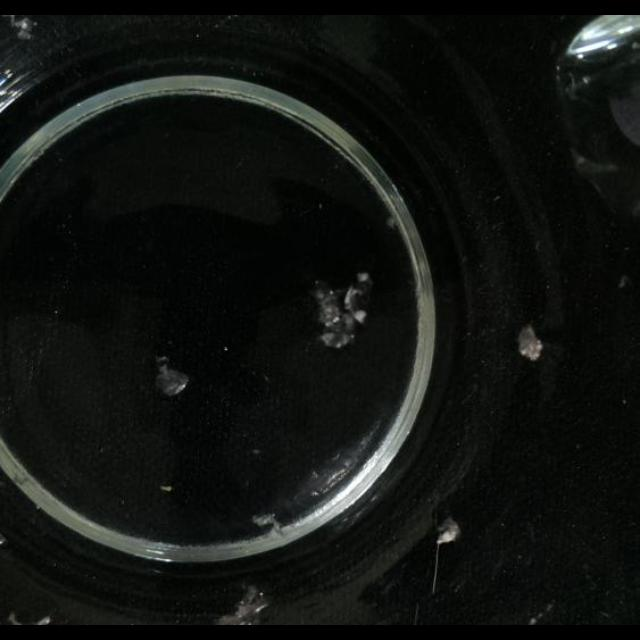Fibre: (217, 585, 270, 625), (250, 512, 286, 538), (9, 16, 36, 40), (528, 606, 550, 624), (618, 275, 630, 289), (386, 214, 398, 228)
Fragment: (314, 272, 372, 350), (154, 358, 190, 398)
microbeads: (528, 616, 538, 626), (310, 490, 320, 498)
